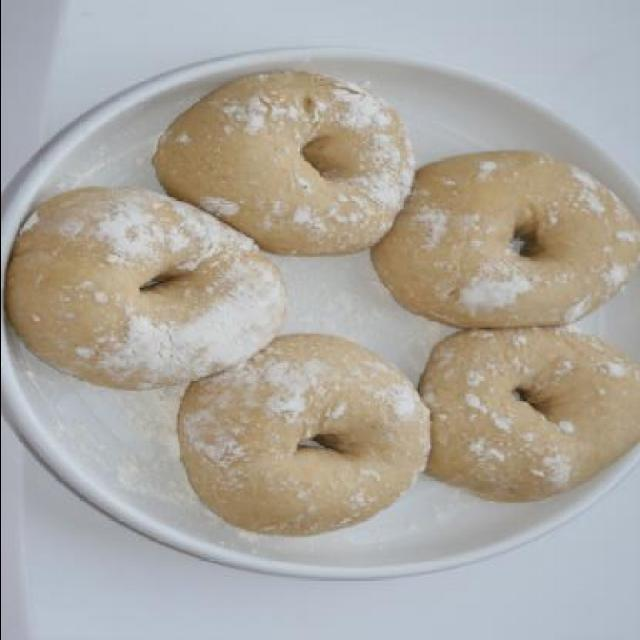Bagel: (1, 184, 290, 393), (174, 332, 430, 536), (368, 148, 640, 329), (152, 72, 414, 256), (422, 332, 640, 499)
